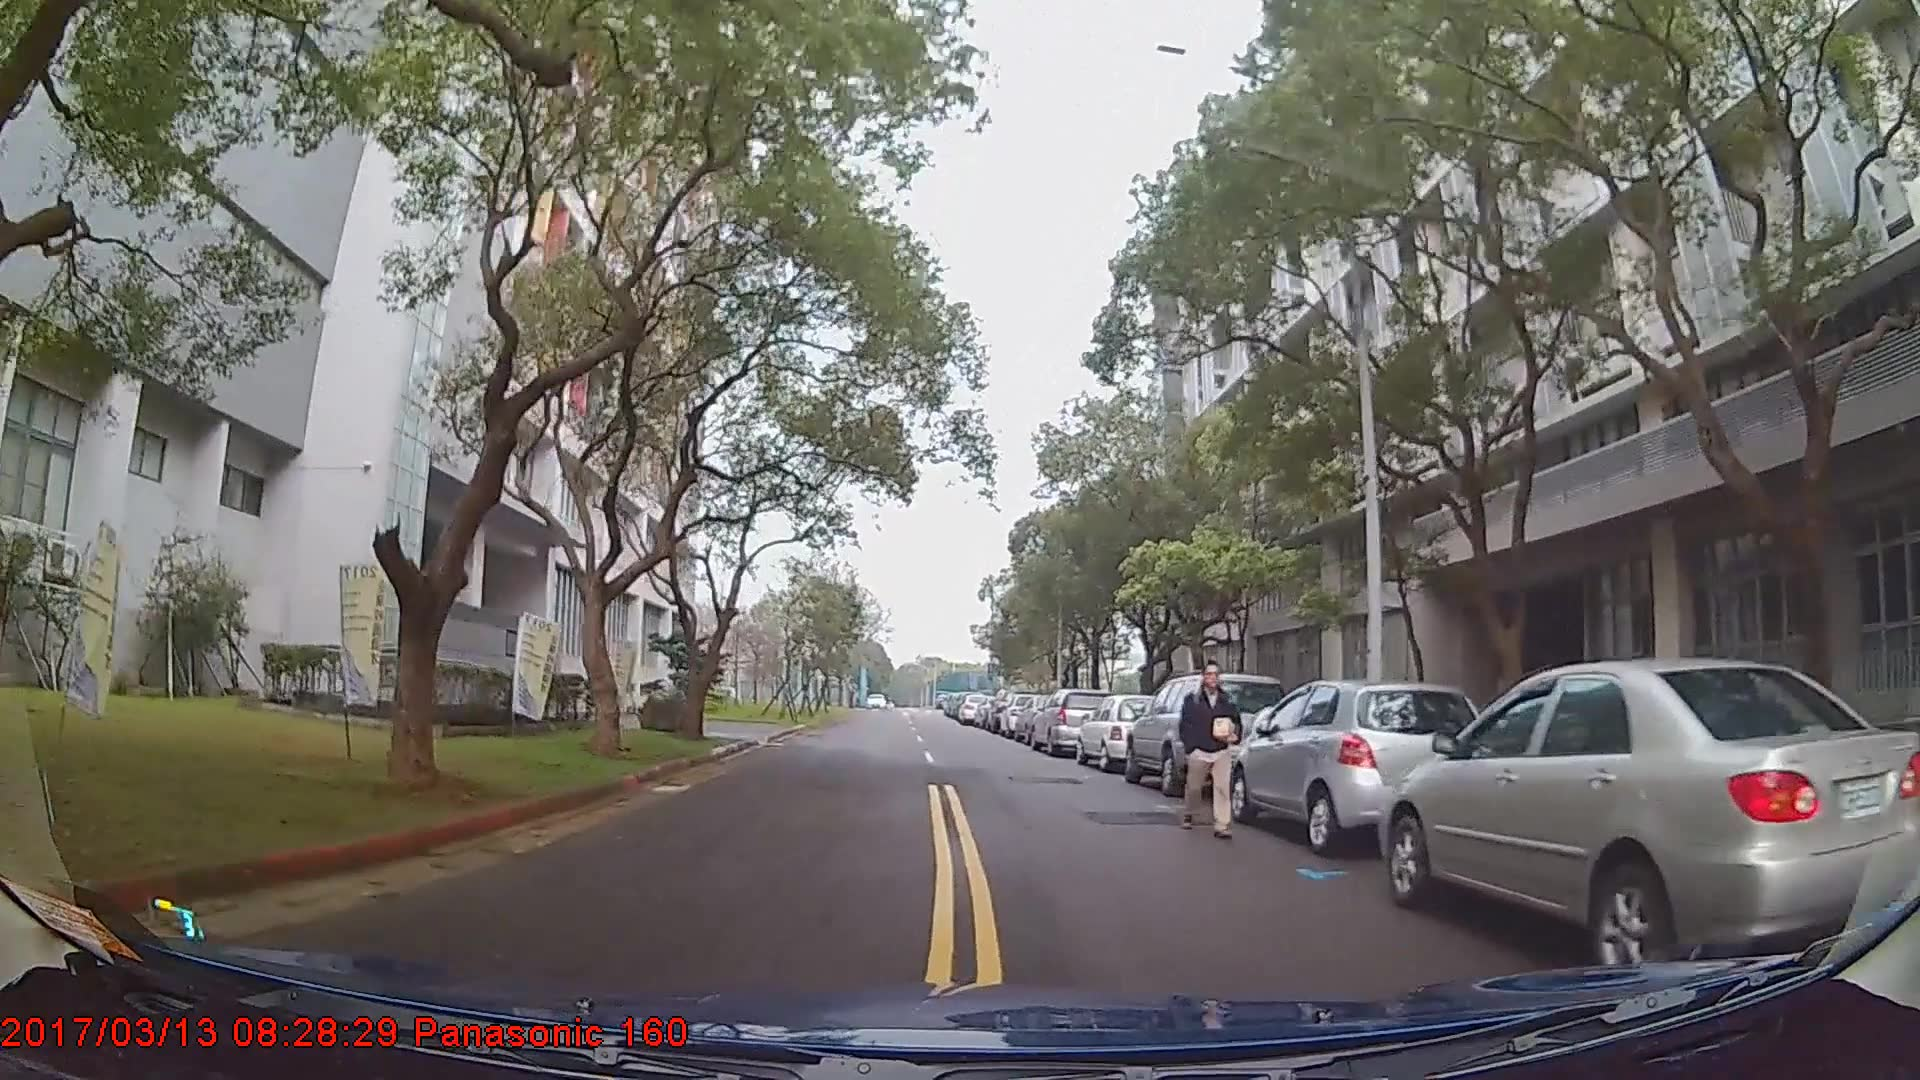pedestrian: (1180, 658, 1248, 838)
vehicle: (1377, 653, 1920, 980), (1226, 673, 1484, 855), (1123, 672, 1293, 795), (1073, 692, 1167, 772), (1029, 686, 1115, 754), (956, 692, 991, 725)
